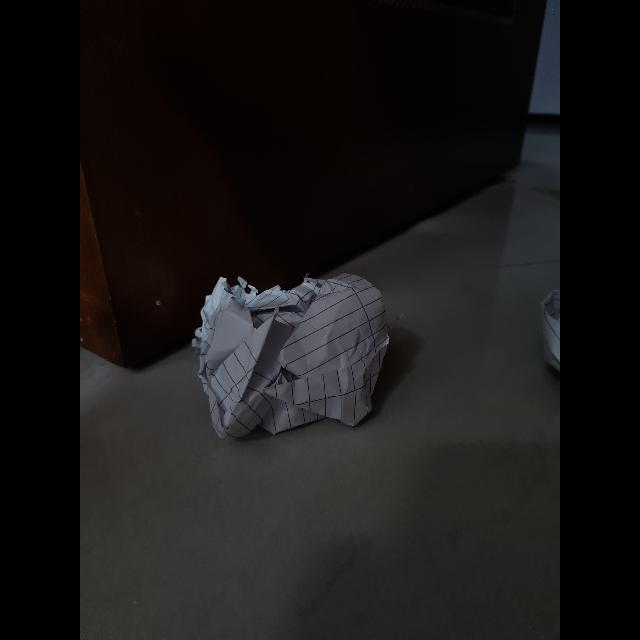scrap_paper: (190, 274, 394, 438)
